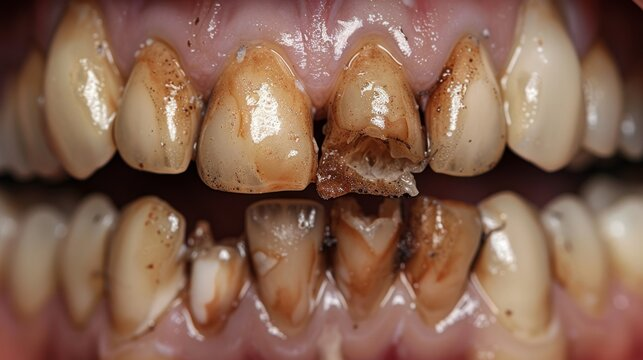LL1BC_healthy: (544, 189, 611, 314)
LL2BC_healthy: (600, 186, 643, 295)
LLCI_sdecay: (332, 195, 401, 327)
LLC_healthy: (479, 194, 556, 339)
LLLI_sdecay: (405, 195, 482, 331)
LR1BC_healthy: (60, 195, 109, 331)
LR2BC_healthy: (11, 204, 56, 318)
LRCI_sdecay: (246, 200, 331, 337)
LRC_mdecay: (107, 196, 187, 342)
LRLI_sdecay: (184, 221, 249, 340)
UL1BC_healthy: (584, 42, 622, 159)
ULCI_sdecay: (316, 38, 428, 201)
ULC_healthy: (505, 3, 583, 173)
ULLI_healthy: (428, 32, 505, 178)
UR1BC_healthy: (9, 58, 49, 176)
URCI_mdecay: (203, 44, 315, 194)
URC_healthy: (44, 10, 120, 181)
URLI_mdecay: (113, 43, 197, 175)
